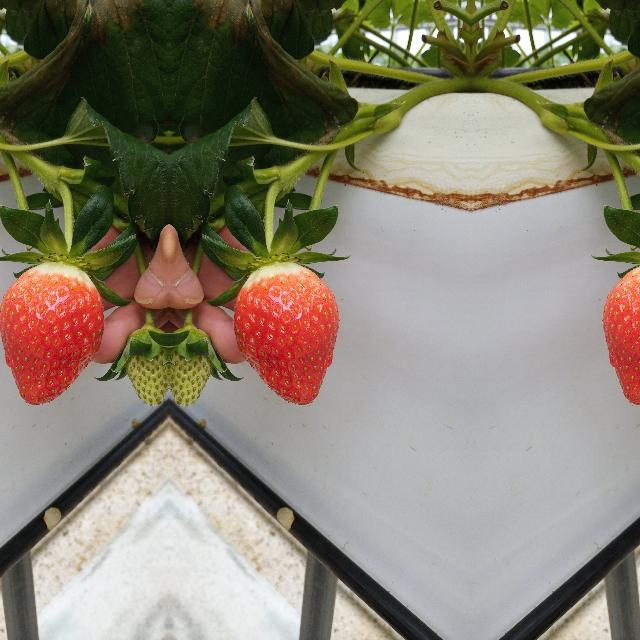Health_100: (231, 262, 339, 406), (0, 261, 105, 406), (602, 261, 640, 406)
Health_25: (171, 326, 219, 410), (117, 326, 165, 410)
